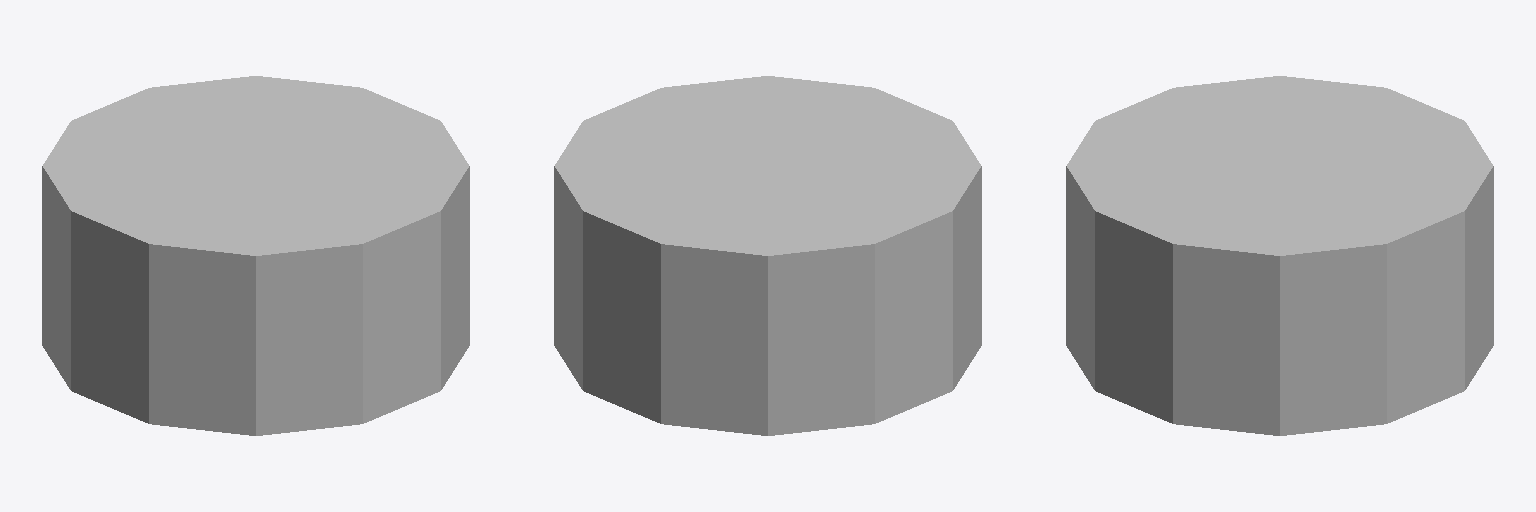
The model's file is basedirector.obj.
The picture shows the model from 3 angles: view 1: azimuth 30°, elevation 25°; view 2: azimuth 150°, elevation 25°; view 3: azimuth 270°, elevation 25°; orthographic projection.
Parts seen in each view (by area): view 1: Mesh10 Model; view 2: Mesh10 Model; view 3: Mesh10 Model.
Part boxes in pixels (left/top/right/bottom): Mesh10 Model: left=42, top=76, right=469, bottom=435; Mesh10 Model: left=554, top=76, right=981, bottom=435; Mesh10 Model: left=1066, top=76, right=1493, bottom=435.
Bounding box in the file's own units: 58 × 27 × 58.